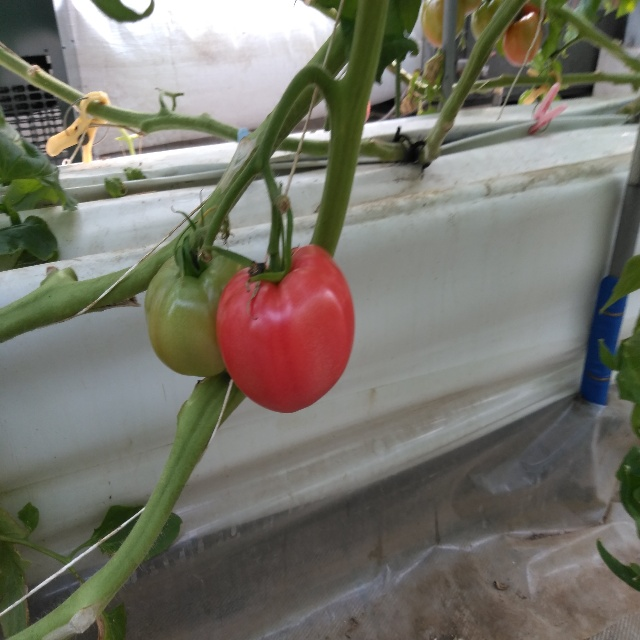b_fully_ripened: (216, 244, 356, 413)
b_green: (144, 246, 251, 377)
